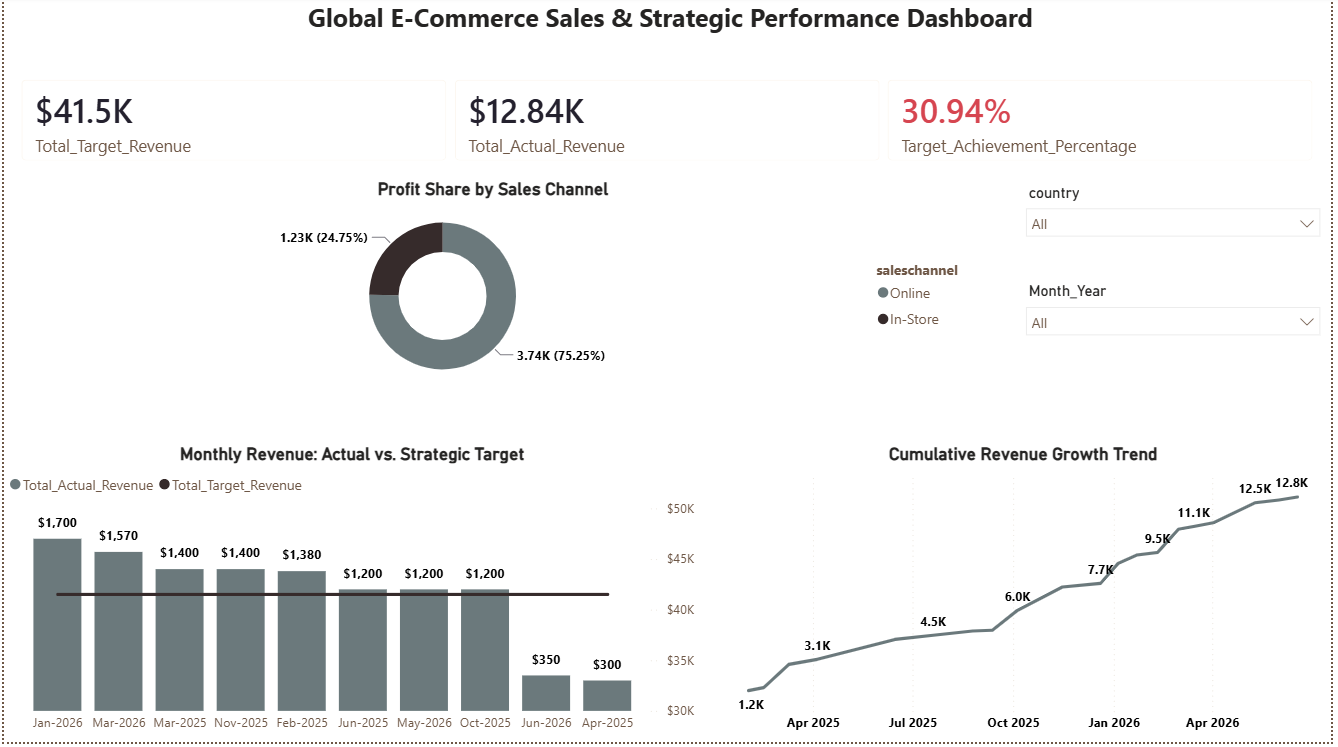

This screenshot's page, from the dashboard's own definition file:
{"tool":"powerbi","page":{"name":"Page 1","canvas":[1280,720],"ordinal":0},"visuals":[{"type":"cardVisual","fields":{"Data":["_All_Measures.Total_Target_Revenue","_All_Measures.Total_Actual_Revenue","_All_Measures.Target_Achievement_Percentage"]},"box":[0,64,1280,112],"z":0},{"type":"lineStackedColumnComboChart","title":"Monthly Revenue: Actual vs. Strategic Target","fields":{"Category":["Calendar_Table.Month_Year"],"Y":["_All_Measures.Total_Actual_Revenue"],"Y2":["_All_Measures.Total_Target_Revenue"]},"box":[0,432,672,288],"z":1},{"type":"lineChart","title":"Cumulative Revenue Growth Trend","fields":{"Y":["Sum(public v_running_revenue_trend.running_total_revenue)"],"Category":["public v_running_revenue_trend.orderdate.Variation.Date Hierarchy.Year","public v_running_revenue_trend.orderdate.Variation.Date Hierarchy.Quarter","public v_running_revenue_trend.orderdate.Variation.Date Hierarchy.Month","public v_running_revenue_trend.orderdate.Variation.Date Hierarchy.Day"]},"box":[688,432,592,288],"z":2},{"type":"donutChart","title":"Profit Share by Sales Channel","fields":{"Category":["public v_sales_channel_performance.saleschannel"],"Y":["Sum(public v_sales_channel_performance.profit)"]},"box":[0,176,944,208],"z":3},{"type":"textbox","box":[0,0,1280,48],"z":4},{"type":"slicer","fields":{"Values":["public v_order_financials.country"]},"box":[976,176,304,80],"z":5},{"type":"slicer","fields":{"Values":["Calendar_Table.Month_Year"]},"box":[976,272,304,80],"z":6}]}

Visuals, with their boxes in screenshot pixels (x1, y1, x2, y2), scaled from the page's 1280x720 canvas onto the 1338x747 screenshot:
cardVisual - _All_Measures.Total_Target_Revenue x _All_Measures.Total_Actual_Revenue: locate(0, 66, 1337, 183)
"Monthly Revenue: Actual vs. Strategic Target" lineStackedColumnComboChart: locate(0, 448, 702, 746)
"Cumulative Revenue Growth Trend" lineChart: locate(719, 448, 1337, 746)
"Profit Share by Sales Channel" donutChart: locate(0, 183, 987, 398)
textbox: locate(0, 0, 1337, 50)
slicer - public v_order_financials.country: locate(1020, 183, 1337, 266)
slicer - Calendar_Table.Month_Year: locate(1020, 282, 1337, 365)
